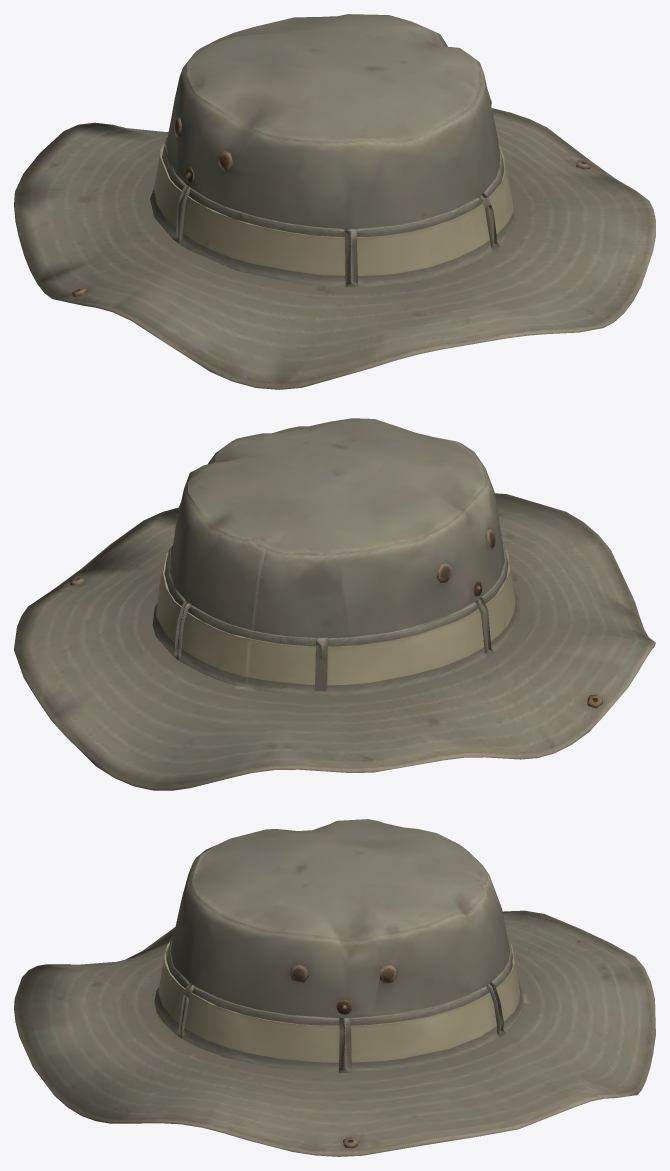
File: fishermans_hat.glb
The picture shows the model from 3 angles, top to bottom: view 1: azimuth 30°, elevation 25°; view 2: azimuth 150°, elevation 25°; view 3: azimuth 270°, elevation 25°; orthographic projection. The views are drawn at different scales.
Parts seen in each view (by area): view 1: fishermans_hat; view 2: fishermans_hat; view 3: fishermans_hat.
Boxes of the visible parts, <box> form: fishermans_hat: <box>14,14,655,389</box>; fishermans_hat: <box>14,418,655,790</box>; fishermans_hat: <box>14,819,655,1156</box>.
Size of the model in its own units: 0.3234 by 0.1239 by 0.3497.
1 material, 1 textured.
